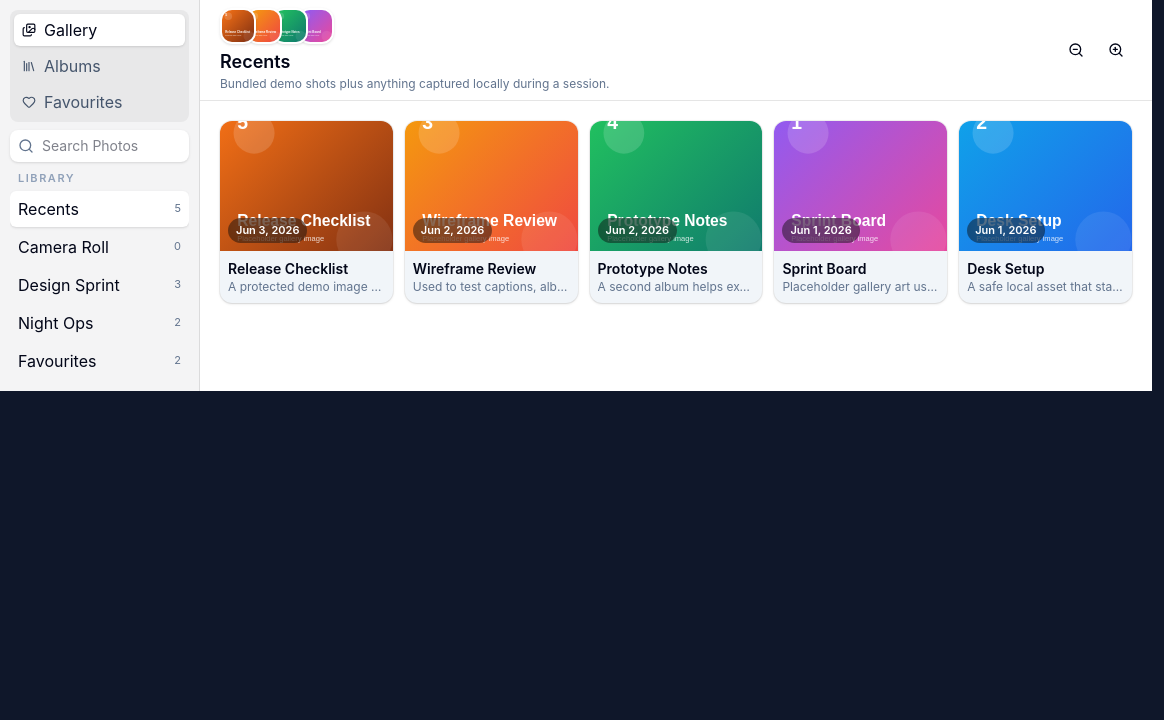
Test case: PhotosApp › has a dedicated albums stage with safe demo albums to explore
Click the button "Albums" at point(100, 66), box [14, 50, 185, 82]
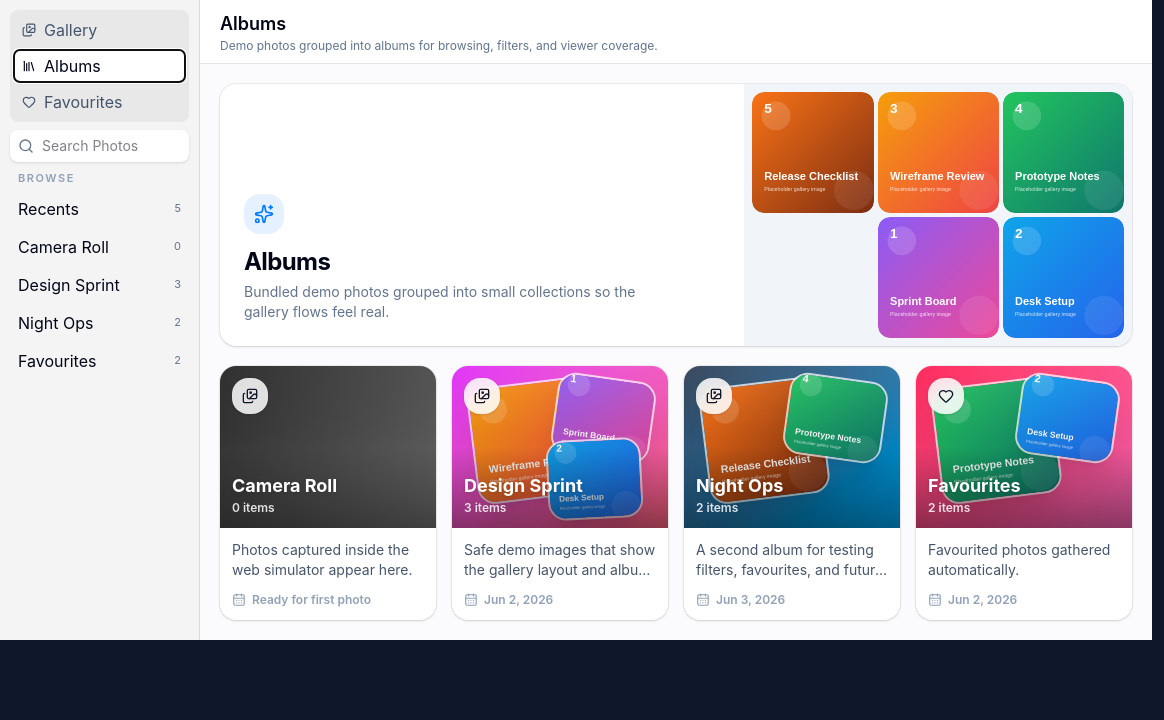
Expected: the heading "Albums" is shown, [220, 12, 286, 34]
Expected: the button with aria-label "Open Design Sprint album" is shown, [452, 366, 668, 620]
Expected: the button with aria-label "Open Night Ops album" is shown
Click the button with aria-label "Open Night Ops album" at point(792, 493), box [684, 366, 900, 620]
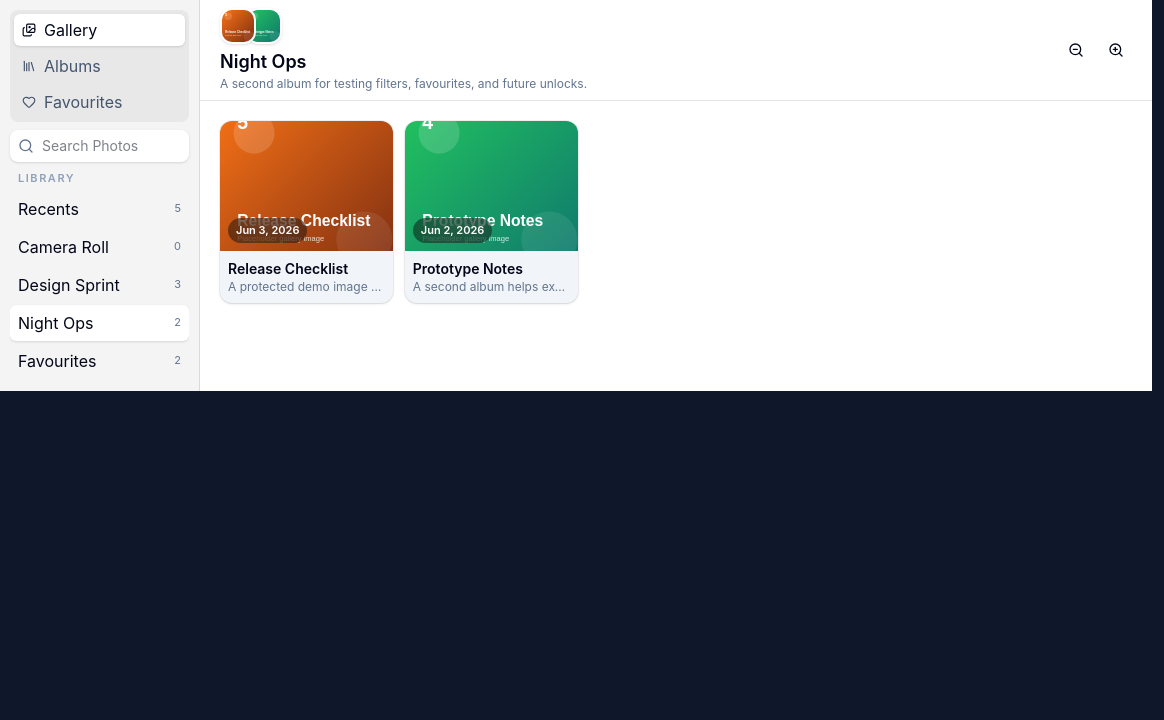
Expected: the heading "Night Ops" is shown, [220, 51, 306, 72]
Expected: the button with aria-label "Open Prototype Notes" is shown, [405, 121, 578, 303]
